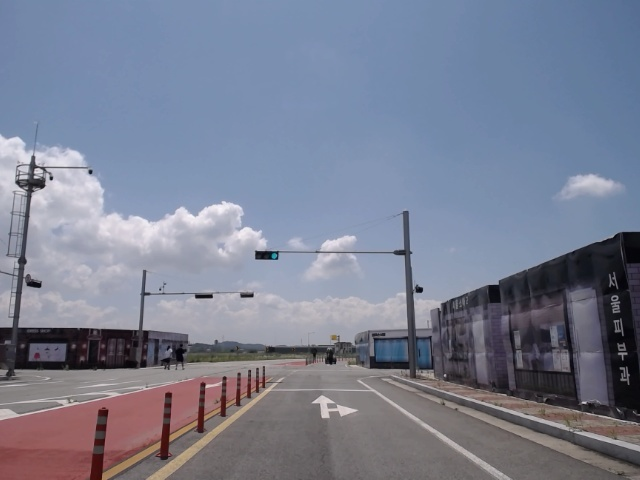green_3: (256, 251, 278, 259)
